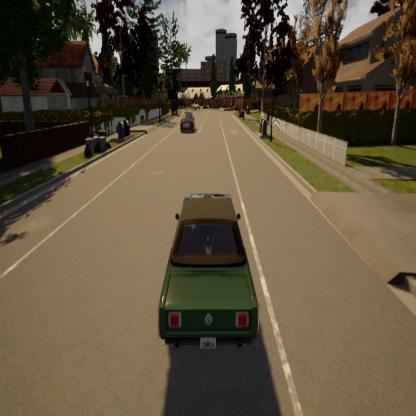Cars: (154, 187, 265, 358), (179, 108, 198, 138), (189, 98, 202, 112)
